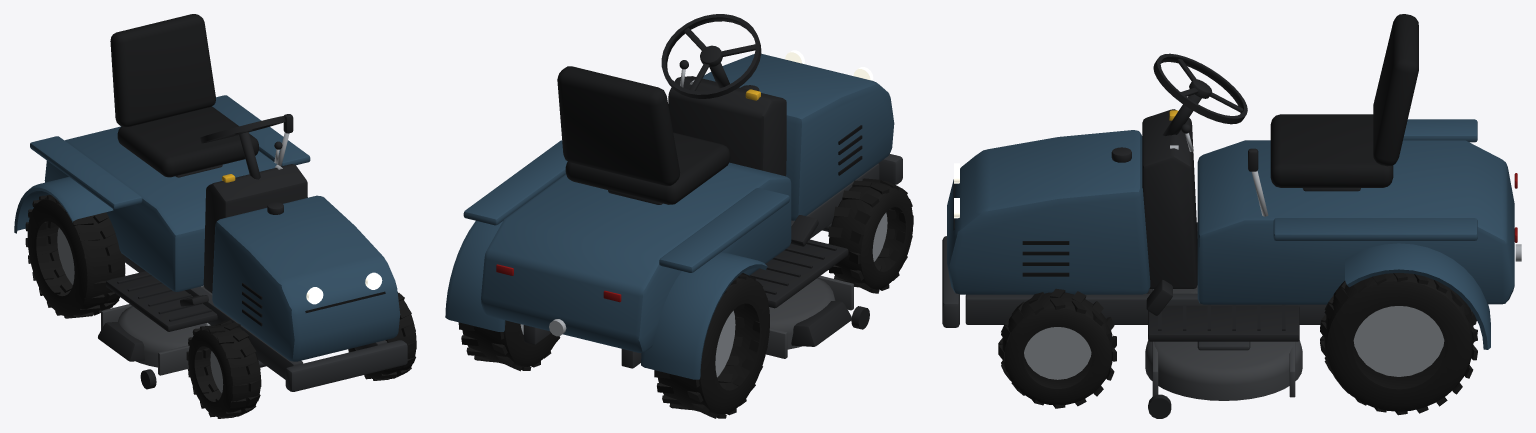
Rendered from HH-STAGE-MOWER.glb.
3 views of the same model, side by side, from view 1: azimuth 30°, elevation 25°; view 2: azimuth 150°, elevation 25°; view 3: azimuth 270°, elevation 25° (orthographic). The views are drawn at different scales.
Parts seen in each view (by area): view 1: Mower_EngineCover, Mower_RearBody, Seat_Back, Wheel_RR_Tire, Seat_Cushion, Mower_Dash, Wheel_FR_Tire, Front_Bumper, Fender_Pan_R, Wheel_RR_Tread, Footboard_R, Wheel_FR_Tread (+11 smaller); view 2: Mower_RearBody, Mower_EngineCover, Seat_Back, Mower_Dash, Fender_R, Wheel_RR_Tire, Wheel_FR_Tire, Seat_Cushion, Fender_Pan_R, Fender_L, Fender_Pan_L, Footboard_R (+14 smaller); view 3: Mower_RearBody, Mower_EngineCover, Wheel_RL_Tire, Mower_Dash, Seat_Cushion, Deck_Lobe1, Wheel_FL_Tire, Footboard_L, Wheel_RL_Rim, Seat_Back, Fender_L, Fender_Pan_L (+9 smaller).
Part boxes in pixels (x1=…): Mower_EngineCover: x1=212, y1=195, x2=400, y2=361; Mower_RearBody: x1=44, y1=126, x2=307, y2=291; Seat_Back: x1=110, y1=14, x2=215, y2=127; Wheel_RR_Tire: x1=27, y1=197, x2=125, y2=317; Seat_Cushion: x1=117, y1=106, x2=258, y2=177; Mower_Dash: x1=203, y1=164, x2=307, y2=293; Wheel_FR_Tire: x1=188, y1=323, x2=260, y2=417; Front_Bumper: x1=285, y1=340, x2=407, y2=391; Fender_Pan_R: x1=30, y1=136, x2=142, y2=209; Wheel_RR_Tread: x1=25, y1=195, x2=125, y2=318; Footboard_R: x1=106, y1=271, x2=217, y2=331; Wheel_FR_Tread: x1=186, y1=319, x2=261, y2=418; Mower_RearBody: x1=481, y1=162, x2=791, y2=352; Mower_EngineCover: x1=702, y1=53, x2=894, y2=220; Seat_Back: x1=557, y1=66, x2=680, y2=186; Mower_Dash: x1=668, y1=76, x2=786, y2=176; Fender_R: x1=641, y1=252, x2=767, y2=379; Wheel_RR_Tire: x1=658, y1=274, x2=769, y2=415; Wheel_FR_Tire: x1=828, y1=180, x2=913, y2=289; Seat_Cushion: x1=565, y1=132, x2=730, y2=204; Fender_Pan_R: x1=659, y1=188, x2=789, y2=272; Fender_L: x1=445, y1=221, x2=505, y2=331; Fender_Pan_L: x1=463, y1=140, x2=567, y2=225; Footboard_R: x1=752, y1=239, x2=848, y2=308; Mower_RearBody: x1=1197, y1=140, x2=1514, y2=304; Mower_EngineCover: x1=947, y1=130, x2=1150, y2=294; Wheel_RL_Tire: x1=1324, y1=273, x2=1473, y2=411; Mower_Dash: x1=1142, y1=109, x2=1197, y2=288; Seat_Cushion: x1=1270, y1=114, x2=1393, y2=187; Deck_Lobe1: x1=1145, y1=340, x2=1302, y2=400; Wheel_FL_Tire: x1=1002, y1=292, x2=1112, y2=405; Footboard_L: x1=1148, y1=305, x2=1299, y2=341; Wheel_RL_Rim: x1=1353, y1=306, x2=1444, y2=376; Seat_Back: x1=1373, y1=14, x2=1418, y2=166; Fender_L: x1=1345, y1=243, x2=1490, y2=349; Fender_Pan_L: x1=1273, y1=218, x2=1477, y2=240.
Size of the model in its own units: 1.1 by 1.2 by 1.98.
